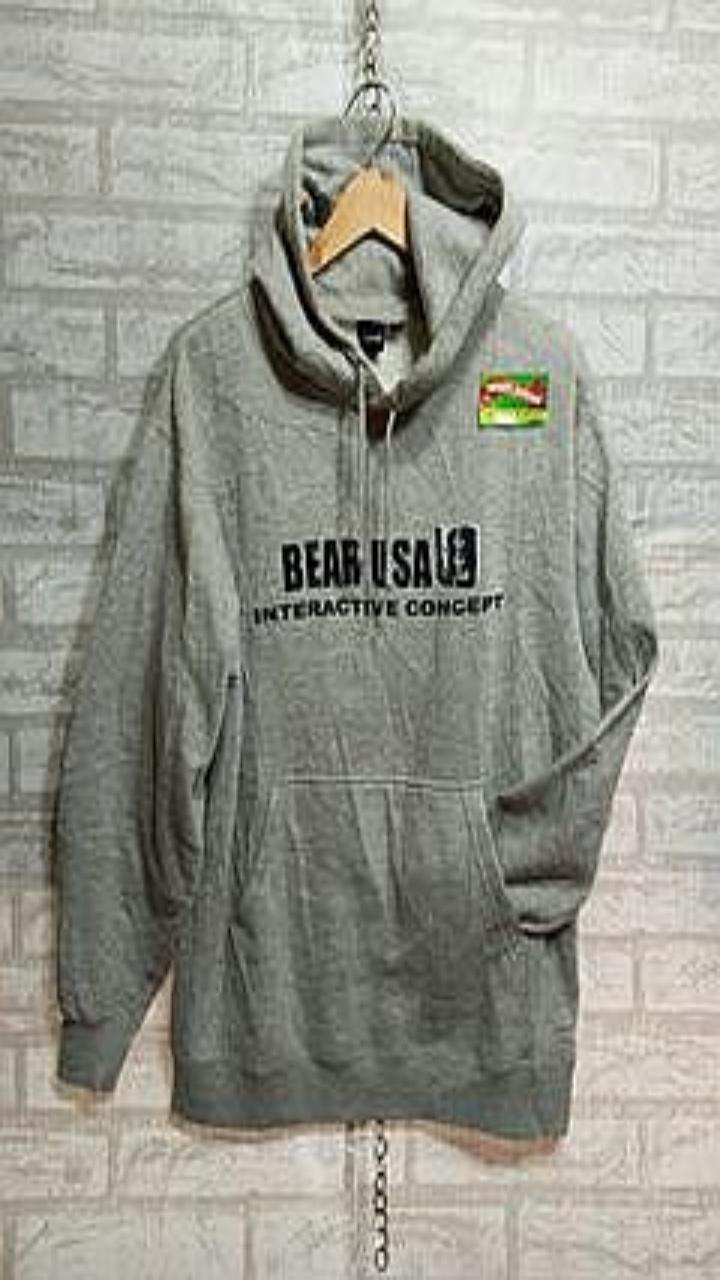Hoodie: (56, 116, 657, 1136)
